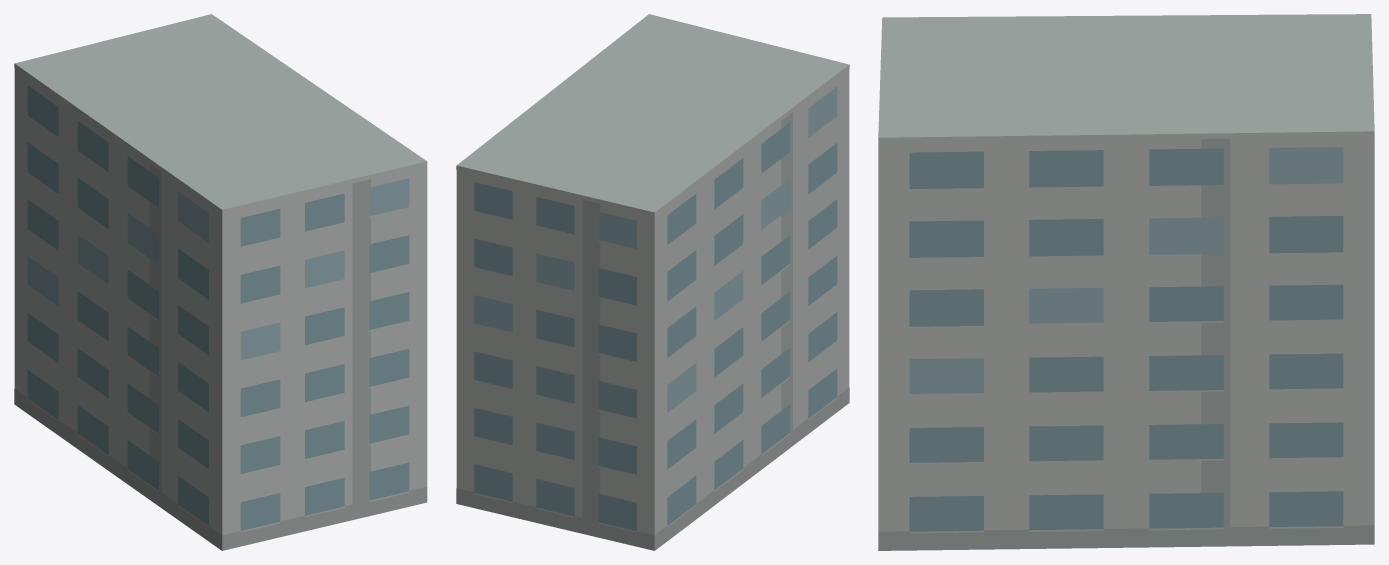
The model's file is survey-upis-32708828.glb.
3 renders of one model, left to right at view 1: azimuth 30°, elevation 25°; view 2: azimuth 150°, elevation 25°; view 3: azimuth 270°, elevation 25°, orthographic. The views are drawn at different scales.
Visible parts, largest first — view 1: survey-upis-32708828.tmp; view 2: survey-upis-32708828.tmp; view 3: survey-upis-32708828.tmp.
Part boxes in pixels (box(x1,y1,x2,y2)): survey-upis-32708828.tmp: box(14, 14, 427, 550); survey-upis-32708828.tmp: box(456, 14, 849, 550); survey-upis-32708828.tmp: box(878, 14, 1374, 550).
Size of the model in its own units: 12.15 by 18.9 by 20.59.
